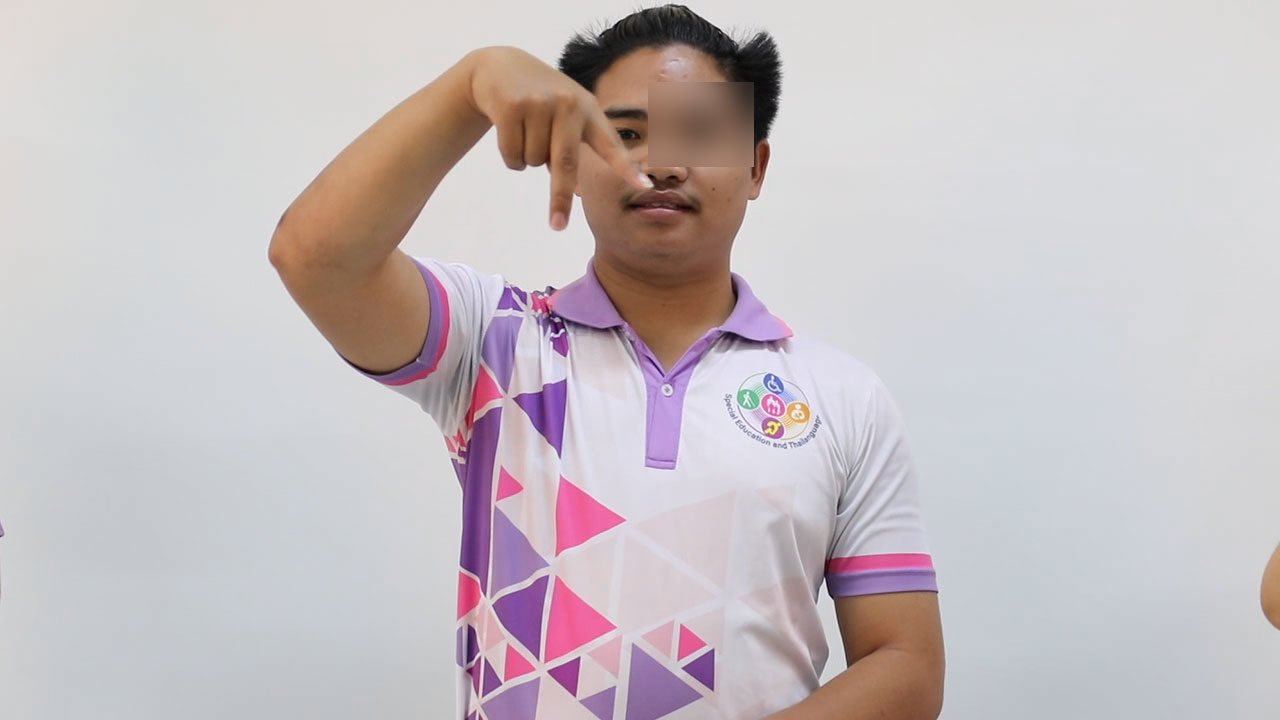por: (454, 31, 664, 234)
